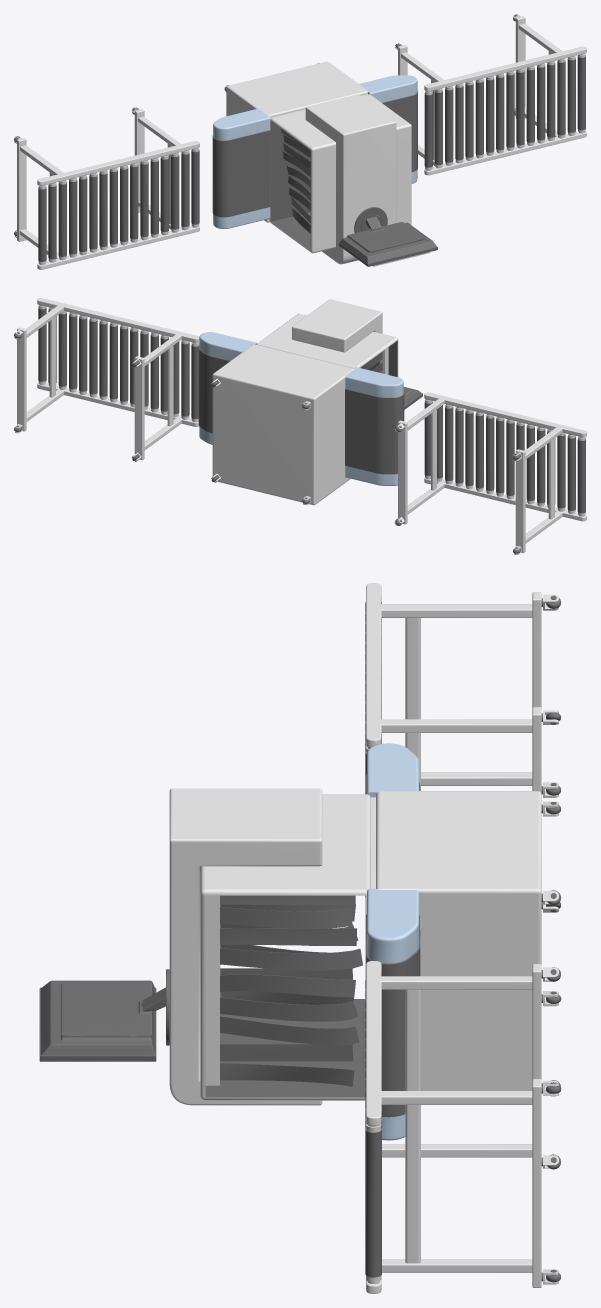
The model's file is Máy soi chiếu.glb.
3 renders of one model, top to bottom at view 1: azimuth 30°, elevation 25°; view 2: azimuth 150°, elevation 25°; view 3: azimuth 270°, elevation 25°, orthographic. The views are drawn at different scales.
Visible parts, largest first — view 1: Object001, Box003, Box004, Cylinder09, Object002, Tele4, Object004, Box008, Box013, Cylinder03, Line009, Box016 (+5 smaller); view 2: Box003, Object001, Cylinder09, Box004, Object002, Box008, Box013, Cylinder03, Box016, Box005, Box010, Box014 (+9 smaller); view 3: Box003, Box004, Line010, Tele4, Box008, Box013, Object002, Object004, Box005, Line009, Cylinder09, Object001 (+11 smaller).
Boxes of the visible parts, left/top/right/bottom form: Object001: left=38, top=56, right=585, bottom=261; Box003: left=226, top=61, right=411, bottom=253; Box004: left=305, top=94, right=396, bottom=264; Cylinder09: left=212, top=91, right=417, bottom=217; Object002: left=213, top=75, right=417, bottom=228; Tele4: left=340, top=207, right=436, bottom=263; Object004: left=270, top=121, right=310, bottom=250; Box008: left=401, top=23, right=586, bottom=91; Box013: left=20, top=116, right=199, bottom=185; Cylinder03: left=38, top=53, right=585, bottom=265; Line009: left=281, top=129, right=310, bottom=233; Box016: left=20, top=201, right=199, bottom=269; Box003: left=212, top=313, right=398, bottom=505; Object001: left=38, top=307, right=585, bottom=513; Cylinder09: left=198, top=347, right=404, bottom=474; Box004: left=292, top=299, right=382, bottom=352; Object002: left=199, top=332, right=403, bottom=485; Box008: left=26, top=298, right=199, bottom=366; Box013: left=407, top=392, right=586, bottom=459; Cylinder03: left=38, top=305, right=585, bottom=516; Box016: left=407, top=477, right=586, bottom=543; Box005: left=26, top=383, right=198, bottom=450; Box010: left=134, top=356, right=144, bottom=460; Box014: left=515, top=449, right=525, bottom=553; Box003: left=200, top=791, right=541, bottom=1100; Box004: left=169, top=788, right=322, bottom=1105; Line010: left=220, top=895, right=362, bottom=1086; Tele4: left=41, top=969, right=169, bottom=1055; Box008: left=366, top=961, right=532, bottom=1125; Box013: left=366, top=583, right=532, bottom=747; Object002: left=367, top=743, right=418, bottom=1140; Object004: left=205, top=999, right=365, bottom=1097; Box005: left=366, top=1144, right=532, bottom=1293; Line009: left=220, top=904, right=358, bottom=1004; Cylinder09: left=365, top=774, right=420, bottom=1117; Object001: left=365, top=602, right=381, bottom=1277.
Size of the model in its own units: 4081 by 948 by 1680.
